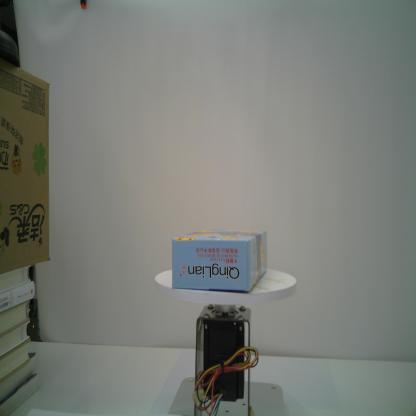Dessert: (171, 229, 268, 292)
